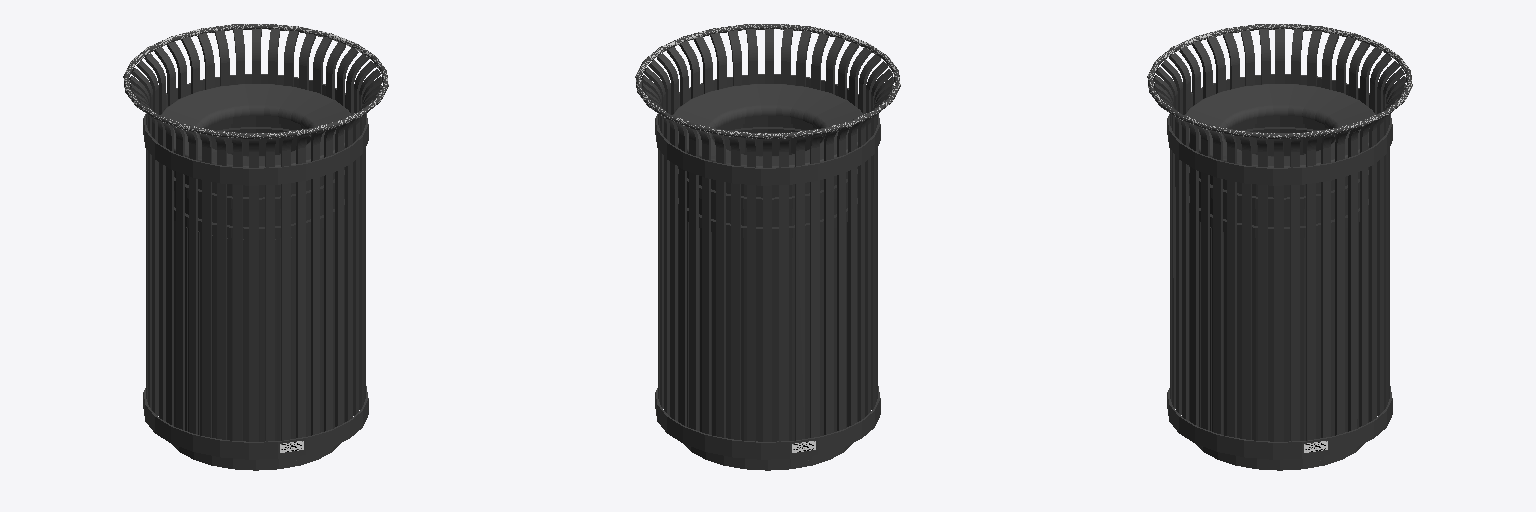
3 views of the same model, side by side, from view 1: azimuth 30°, elevation 25°; view 2: azimuth 150°, elevation 25°; view 3: azimuth 270°, elevation 25° (orthographic).
Parts seen in each view (by area): view 1: mesh73_mesh73-geometry, mesh94_mesh94-geometry, mesh103_mesh103-geometry, mesh113_mesh113-geometry, mesh102_mesh102-geometry, mesh128_mesh128-geometry, mesh196_mesh196-geometry, mesh140_mesh140-geometry, mesh124_mesh124-geometry, mesh158_mesh158-geometry, mesh148_mesh148-geometry, mesh160_mesh160-geometry (+25 smaller); view 2: mesh73_mesh73-geometry, mesh94_mesh94-geometry, mesh103_mesh103-geometry, mesh113_mesh113-geometry, mesh102_mesh102-geometry, mesh130_mesh130-geometry, mesh144_mesh144-geometry, mesh142_mesh142-geometry, mesh194_mesh194-geometry, mesh152_mesh152-geometry, mesh180_mesh180-geometry, mesh192_mesh192-geometry (+27 smaller); view 3: mesh73_mesh73-geometry, mesh94_mesh94-geometry, mesh103_mesh103-geometry, mesh113_mesh113-geometry, mesh102_mesh102-geometry, mesh168_mesh168-geometry, mesh136_mesh136-geometry, mesh126_mesh126-geometry, mesh138_mesh138-geometry, mesh156_mesh156-geometry, mesh132_mesh132-geometry, mesh118_mesh118-geometry (+27 smaller).
Part boxes in pixels (left/top/right/bottom): mesh73_mesh73-geometry: left=174, top=115, right=344, bottom=441; mesh94_mesh94-geometry: left=161, top=84, right=350, bottom=167; mesh103_mesh103-geometry: left=143, top=74, right=368, bottom=185; mesh113_mesh113-geometry: left=143, top=386, right=368, bottom=459; mesh102_mesh102-geometry: left=123, top=24, right=388, bottom=138; mesh128_mesh128-geometry: left=281, top=136, right=294, bottom=440; mesh196_mesh196-geometry: left=249, top=139, right=258, bottom=441; mesh140_mesh140-geometry: left=214, top=136, right=226, bottom=439; mesh124_mesh124-geometry: left=231, top=138, right=242, bottom=440; mesh158_mesh158-geometry: left=198, top=133, right=211, bottom=437; mesh148_mesh148-geometry: left=296, top=134, right=309, bottom=437; mesh160_mesh160-geometry: left=265, top=138, right=276, bottom=441; mesh73_mesh73-geometry: left=678, top=115, right=857, bottom=441; mesh94_mesh94-geometry: left=673, top=84, right=862, bottom=167; mesh103_mesh103-geometry: left=655, top=74, right=880, bottom=185; mesh113_mesh113-geometry: left=655, top=386, right=880, bottom=459; mesh102_mesh102-geometry: left=635, top=24, right=900, bottom=138; mesh130_mesh130-geometry: left=795, top=136, right=807, bottom=440; mesh144_mesh144-geometry: left=810, top=134, right=823, bottom=437; mesh142_mesh142-geometry: left=711, top=133, right=725, bottom=437; mesh194_mesh194-geometry: left=779, top=138, right=789, bottom=441; mesh152_mesh152-geometry: left=727, top=136, right=740, bottom=439; mesh180_mesh180-geometry: left=824, top=130, right=838, bottom=434; mesh192_mesh192-geometry: left=685, top=126, right=698, bottom=430; mesh73_mesh73-geometry: left=1189, top=115, right=1368, bottom=441; mesh94_mesh94-geometry: left=1185, top=84, right=1374, bottom=167; mesh103_mesh103-geometry: left=1167, top=74, right=1392, bottom=185; mesh113_mesh113-geometry: left=1167, top=386, right=1392, bottom=459; mesh102_mesh102-geometry: left=1147, top=24, right=1412, bottom=138; mesh168_mesh168-geometry: left=1306, top=136, right=1318, bottom=440; mesh136_mesh136-geometry: left=1222, top=133, right=1236, bottom=437; mesh126_mesh126-geometry: left=1239, top=136, right=1251, bottom=439; mesh138_mesh138-geometry: left=1274, top=139, right=1283, bottom=441; mesh156_mesh156-geometry: left=1321, top=134, right=1334, bottom=437; mesh132_mesh132-geometry: left=1290, top=138, right=1301, bottom=441; mesh118_mesh118-geometry: left=1256, top=138, right=1267, bottom=440.
Bounding box in the file's own units: 0.4894 × 0.7217 × 0.4894.
4 materials, 1 textured.